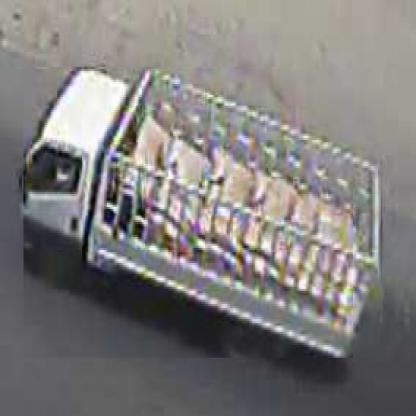truck: (24, 68, 385, 361)
